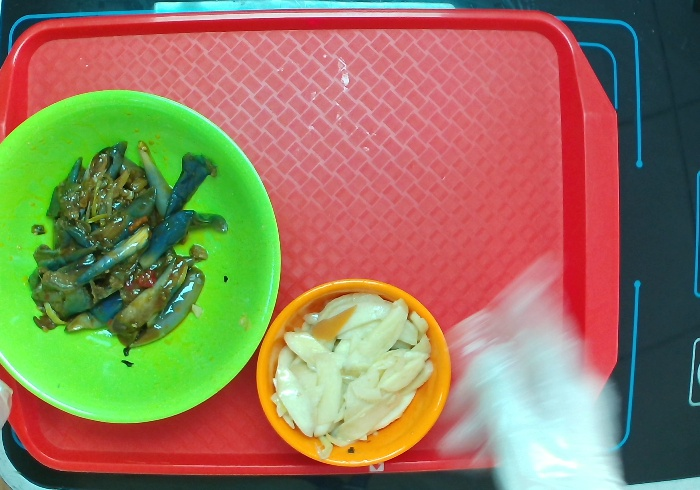YKMZ-Ju_Se_Yuan_Wan: (244, 267, 470, 490)
YKMZ-Lv_Se_Tang_Wan: (1, 72, 287, 429)
